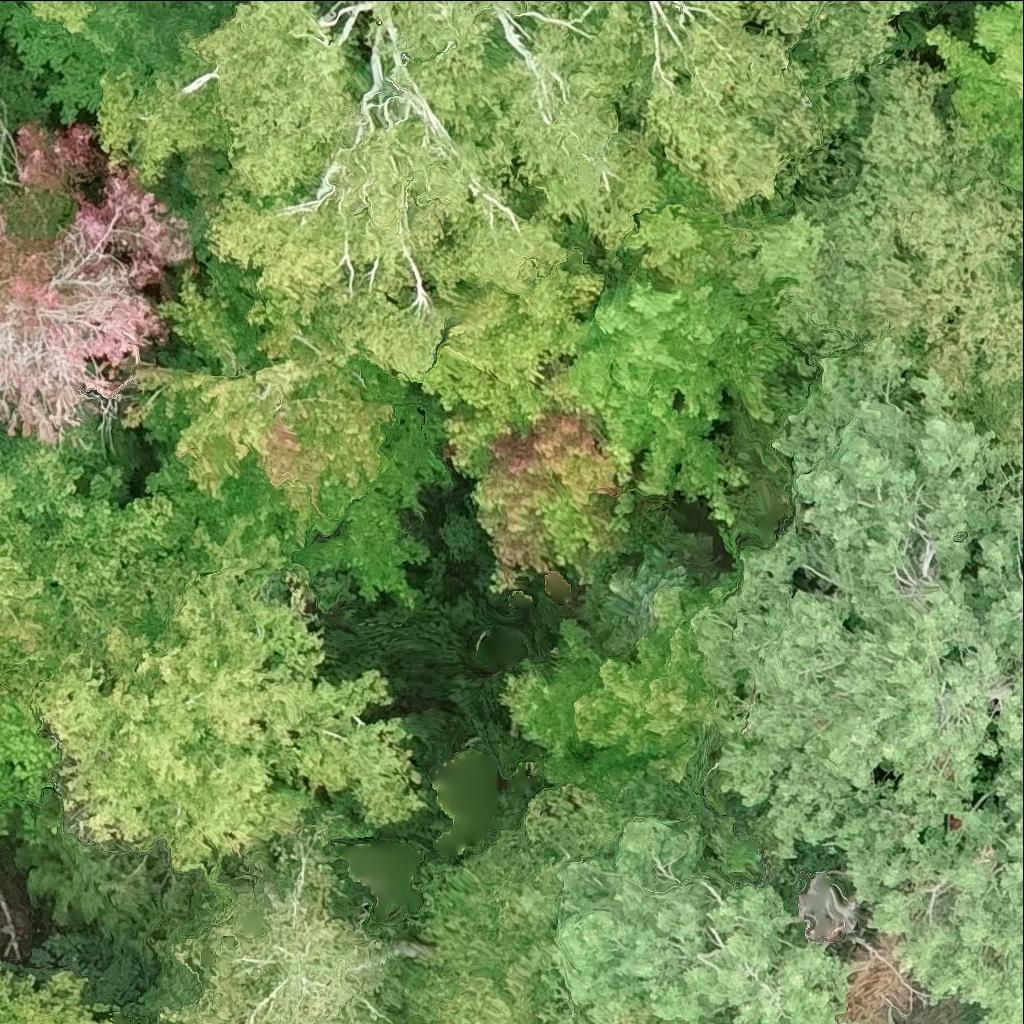crown: (200, 0, 667, 384), (695, 331, 1023, 866), (37, 562, 421, 883), (120, 250, 452, 610), (726, 59, 1023, 447), (0, 442, 284, 805), (565, 163, 811, 522), (0, 127, 192, 445), (426, 296, 631, 589), (556, 816, 845, 1023), (619, 0, 896, 210), (497, 582, 737, 783), (852, 747, 1023, 1023), (165, 830, 389, 1023), (95, 43, 234, 183), (928, 0, 1023, 193), (606, 518, 713, 644), (769, 0, 920, 77), (0, 971, 97, 1023), (31, 0, 97, 34)
